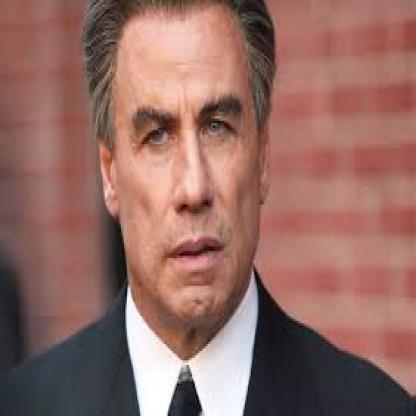darkspot: (209, 274, 250, 326), (261, 330, 297, 383), (139, 284, 155, 328), (174, 286, 193, 318), (307, 244, 317, 277), (320, 209, 331, 235), (323, 293, 336, 309), (364, 262, 376, 276), (266, 202, 274, 219), (292, 186, 304, 197), (324, 154, 332, 168), (271, 300, 279, 314), (283, 249, 295, 258), (333, 218, 338, 233)
